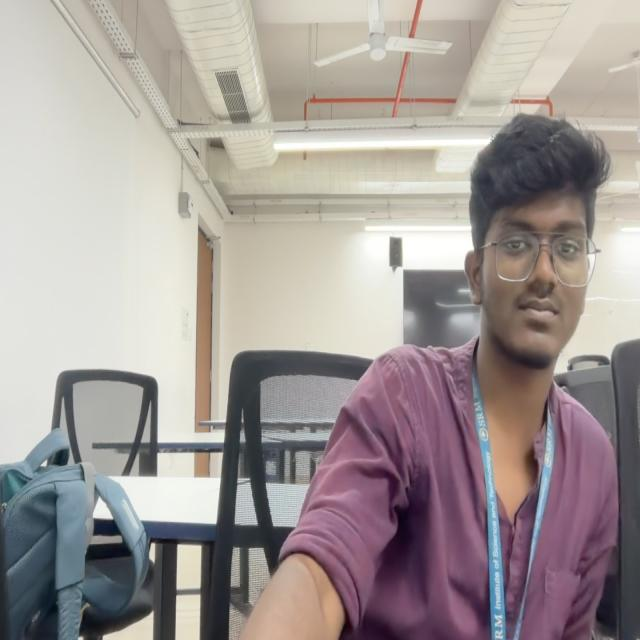ravindra: (462, 111, 608, 370)
